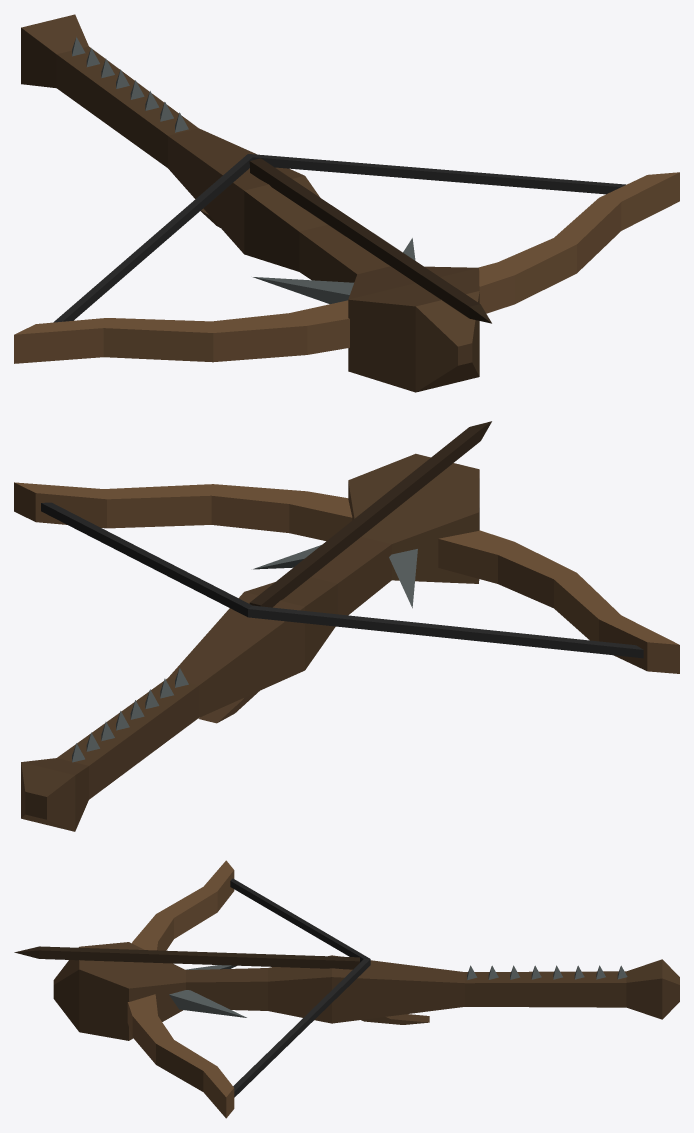
Rendered from Crossbow_5_Brown.fbx.
3 views of the same model, one above another, from view 1: azimuth 30°, elevation 25°; view 2: azimuth 150°, elevation 25°; view 3: azimuth 270°, elevation 25° (orthographic). The views are drawn at different scales.
Visible parts, largest first — view 1: Crossbow_5_Brown_Part_1, Crossbow_5_Brown_Part_2, Crossbow_5_Brown_Part_3, Crossbow_5_Brown_Part_4, Crossbow_5_Brown_Part_5; view 2: Crossbow_5_Brown_Part_1, Crossbow_5_Brown_Part_2, Crossbow_5_Brown_Part_3, Crossbow_5_Brown_Part_4, Crossbow_5_Brown_Part_5; view 3: Crossbow_5_Brown_Part_1, Crossbow_5_Brown_Part_2, Crossbow_5_Brown_Part_4, Crossbow_5_Brown_Part_3, Crossbow_5_Brown_Part_5.
Part boxes in pixels (bbox=[...]): Crossbow_5_Brown_Part_1: bbox=[21, 14, 479, 392]; Crossbow_5_Brown_Part_2: bbox=[14, 172, 679, 363]; Crossbow_5_Brown_Part_3: bbox=[53, 154, 625, 322]; Crossbow_5_Brown_Part_4: bbox=[249, 158, 491, 323]; Crossbow_5_Brown_Part_5: bbox=[72, 37, 415, 303]; Crossbow_5_Brown_Part_1: bbox=[21, 453, 479, 831]; Crossbow_5_Brown_Part_2: bbox=[14, 482, 679, 673]; Crossbow_5_Brown_Part_3: bbox=[41, 502, 643, 658]; Crossbow_5_Brown_Part_4: bbox=[249, 421, 491, 607]; Crossbow_5_Brown_Part_5: bbox=[72, 545, 417, 762]; Crossbow_5_Brown_Part_1: bbox=[53, 942, 679, 1040]; Crossbow_5_Brown_Part_2: bbox=[127, 860, 234, 1118]; Crossbow_5_Brown_Part_4: bbox=[14, 946, 359, 969]; Crossbow_5_Brown_Part_3: bbox=[230, 878, 370, 1097]; Crossbow_5_Brown_Part_5: bbox=[169, 965, 627, 1017].
Bounding box in the file's own units: 90.71 × 13.08 × 108.
